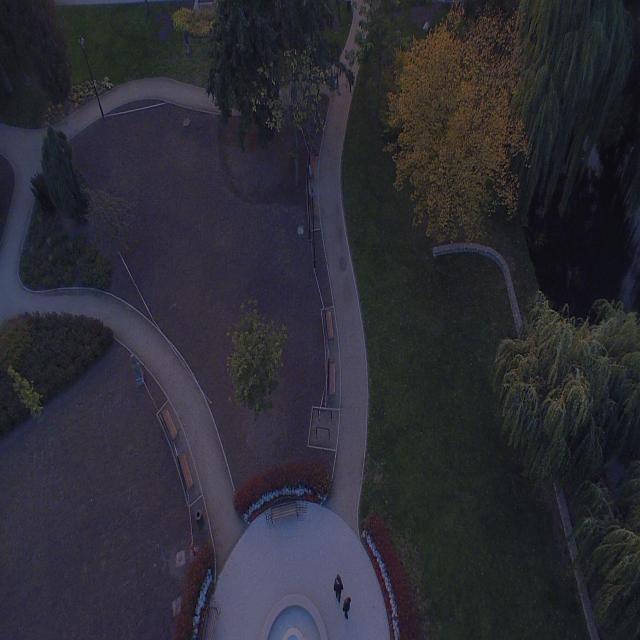p3rson: (334, 573, 344, 603), (342, 596, 351, 621)
